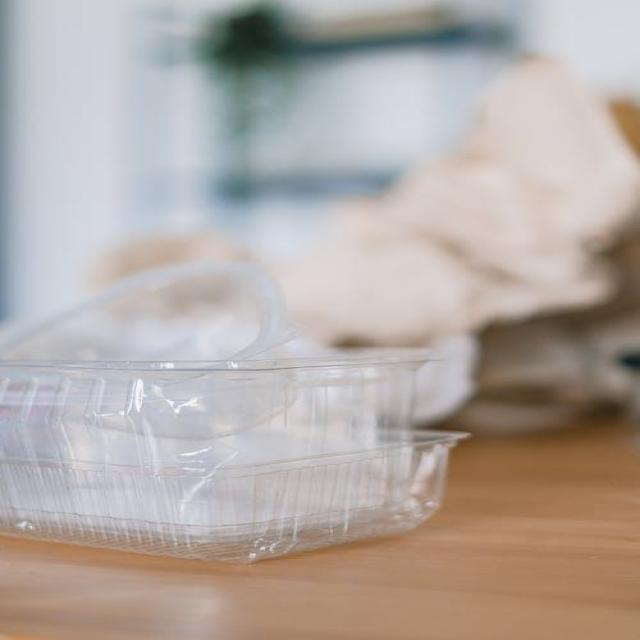plastic: (1, 276, 480, 572)
